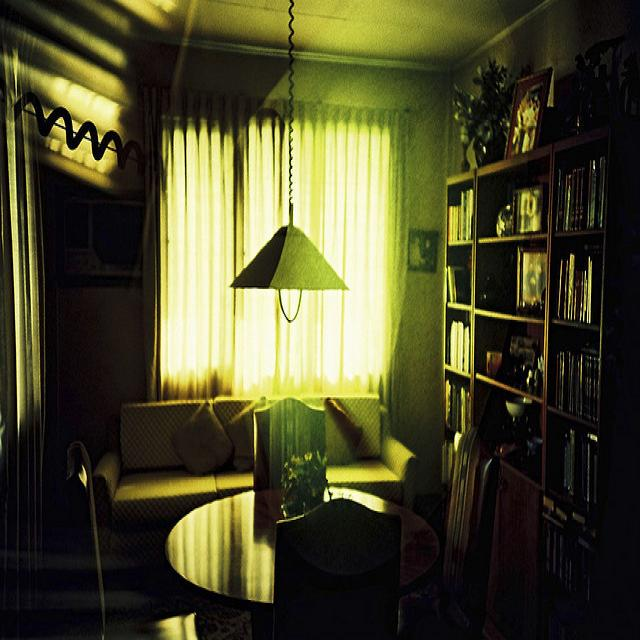Table: (171, 497, 476, 616)
chair: (79, 365, 435, 536), (452, 433, 510, 568)
